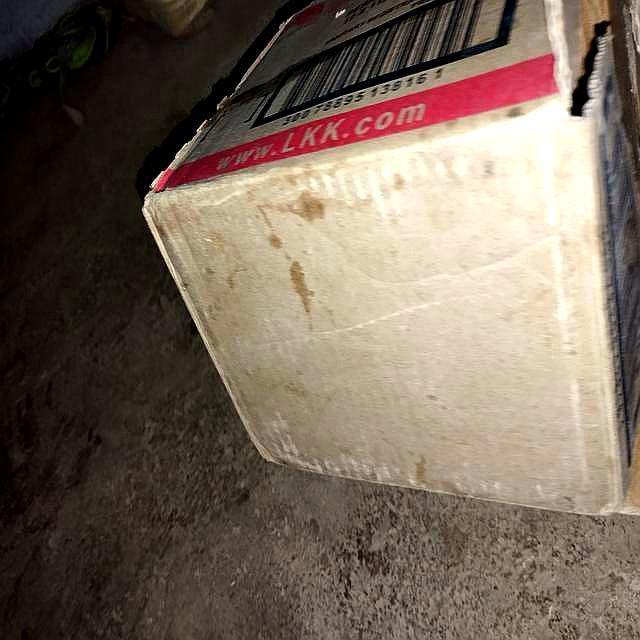Biodegradable: (143, 1, 640, 519)
